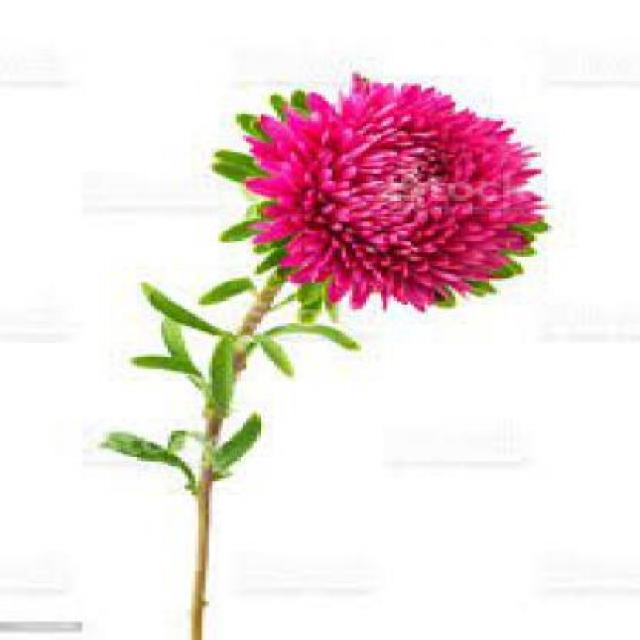Flower: (242, 72, 555, 312)
